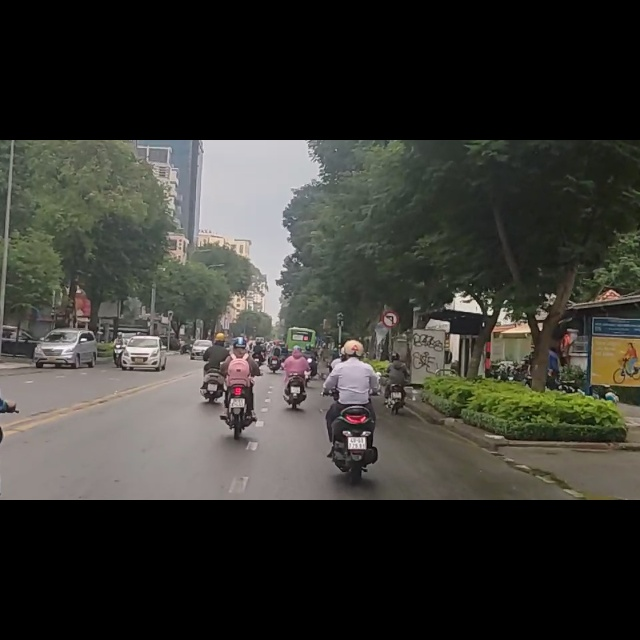bien_cam: (381, 303, 399, 335)
